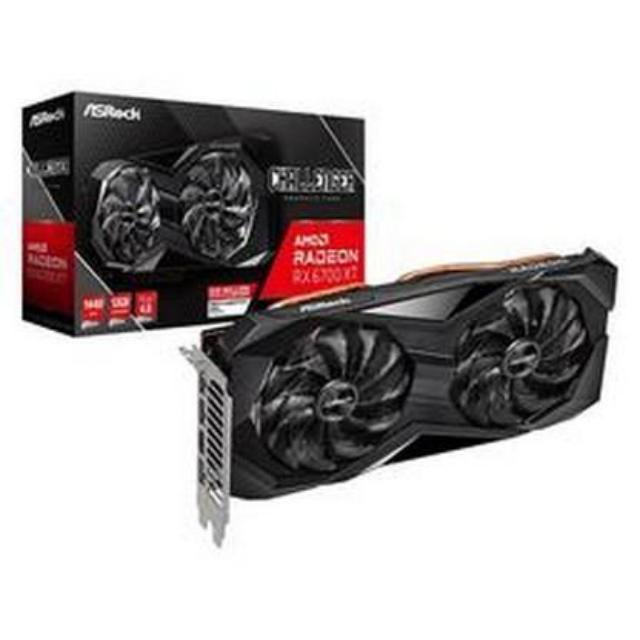GPU: (196, 232, 624, 506)
